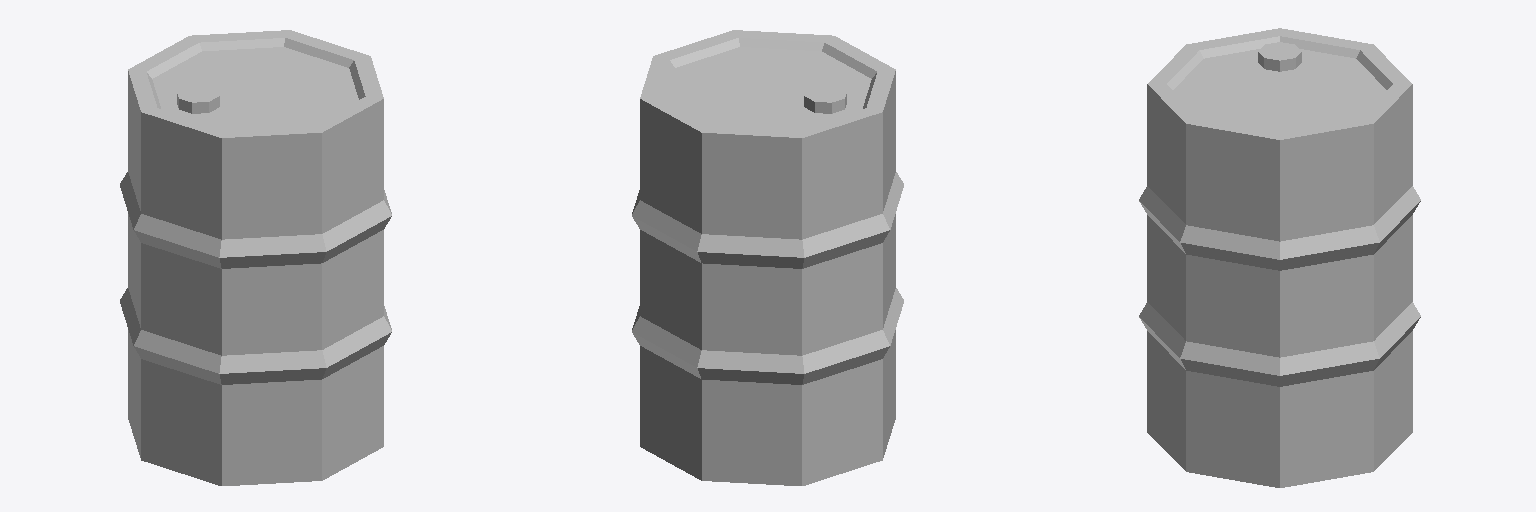
File: barrel_001.obj
The picture shows the model from 3 angles: view 1: azimuth 30°, elevation 25°; view 2: azimuth 150°, elevation 25°; view 3: azimuth 270°, elevation 25°; orthographic projection.
Visible parts, largest first — view 1: barrel_001; view 2: barrel_001; view 3: barrel_001.
Boxes of the visible parts, box(x1,y1,x2,y2) form: barrel_001: box(120, 30, 391, 485); barrel_001: box(632, 30, 903, 485); barrel_001: box(1139, 28, 1420, 487).
Size of the model in its own units: 0.6175 by 0.8504 by 0.6175.